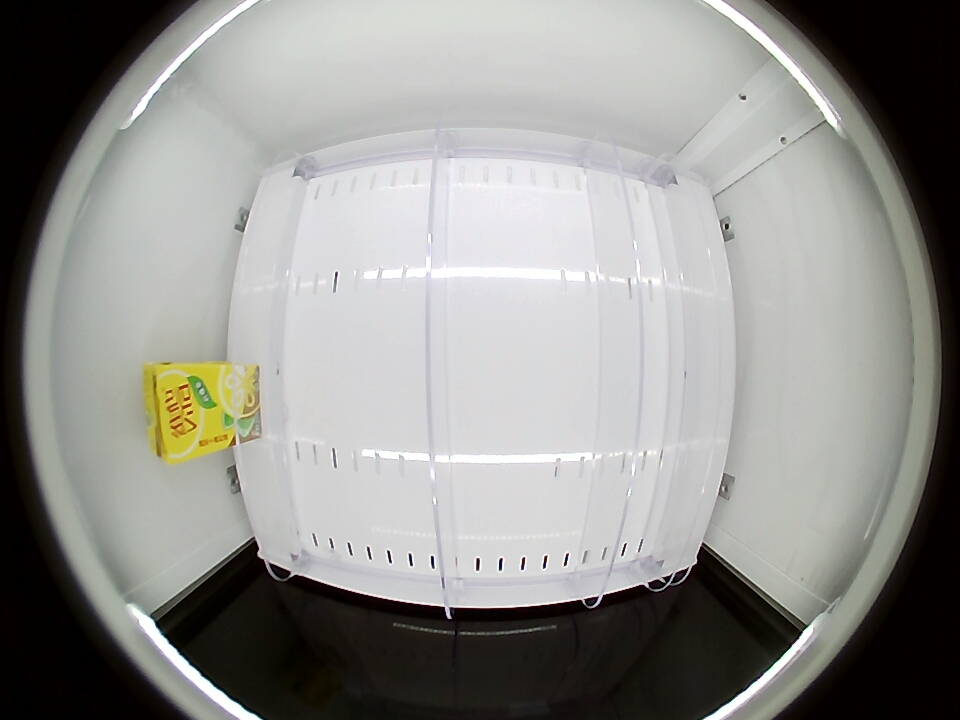weitaningmeng: (146, 362, 219, 463)
